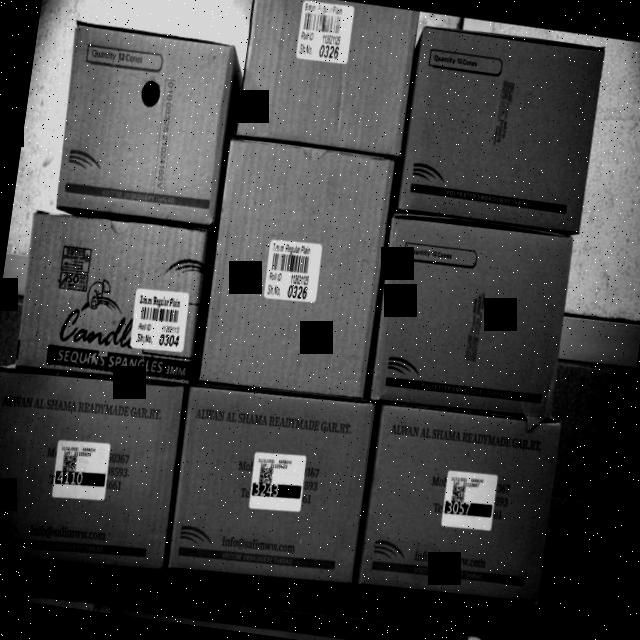box: (198, 138, 397, 408), (165, 383, 378, 593), (395, 20, 605, 232), (357, 398, 560, 612), (368, 216, 578, 414), (0, 367, 187, 574), (51, 23, 237, 225), (12, 208, 210, 396), (232, 0, 423, 158)
